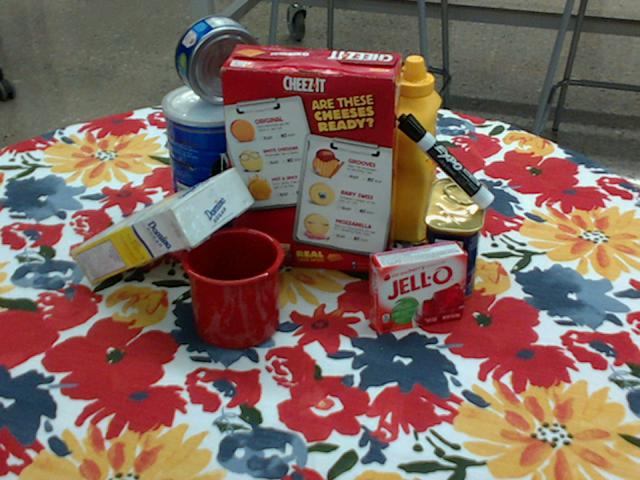cracker_box: (220, 45, 402, 274)
gelatin_box: (370, 241, 468, 334)
large_marker: (398, 114, 495, 209)
master_chef_can: (163, 82, 262, 240)
mug: (181, 226, 285, 348)
mustard_bottle: (385, 57, 442, 244)
potted_meat_can: (423, 178, 489, 301)
sugar_box: (68, 168, 254, 285)
tomato_soup_can: (315, 105, 376, 210)
tuna_fish_can: (175, 15, 261, 104)
